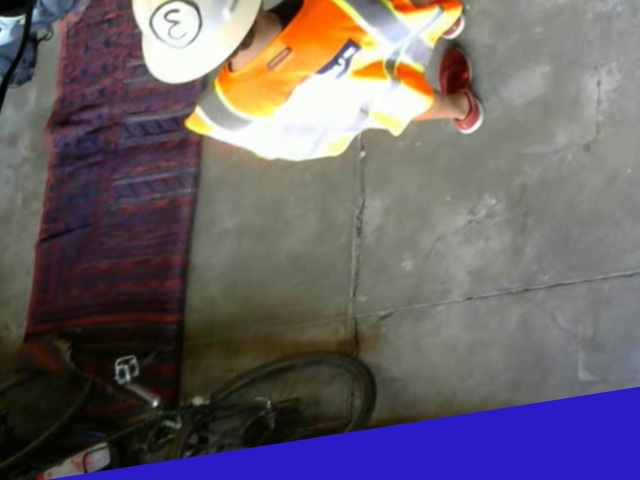three: (145, 0, 204, 54)
